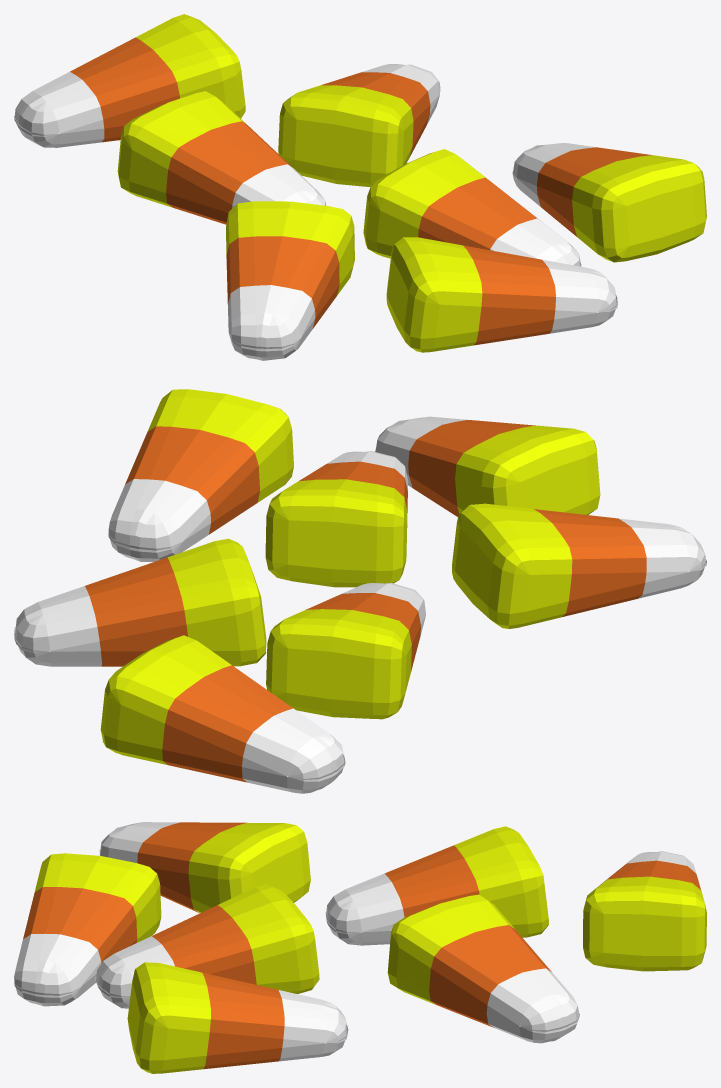
Rendered from 20831b55-eed7-40b2-8fda-67ca01d1e3cf.glb.
3 renders of one model, top to bottom at view 1: azimuth 30°, elevation 25°; view 2: azimuth 150°, elevation 25°; view 3: azimuth 270°, elevation 25°, orthographic. The views are drawn at different scales.
Parts seen in each view (by area): view 1: Box012, Box011, Box007, Box010, Box009, Box008, Box013; view 2: Box007, Box011, Box010, Box008, Box012, Box009, Box013; view 3: Box010, Box008, Box012, Box013, Box009, Box011, Box007.
Part boxes in pixels (x1=…): Box012: x1=386, y1=237, x2=617, y2=352; Box011: x1=226, y1=201, x2=354, y2=360; Box007: x1=14, y1=14, x2=245, y2=147; Box010: x1=512, y1=143, x2=706, y2=262; Box009: x1=117, y1=91, x2=326, y2=224; Box008: x1=278, y1=64, x2=440, y2=187; Box013: x1=363, y1=149, x2=581, y2=266; Box007: x1=100, y1=635, x2=345, y2=793; Box011: x1=452, y1=503, x2=706, y2=628; Box010: x1=108, y1=389, x2=293, y2=561; Box008: x1=14, y1=538, x2=266, y2=666; Box012: x1=375, y1=416, x2=600, y2=516; Box009: x1=266, y1=583, x2=425, y2=719; Box013: x1=265, y1=451, x2=408, y2=587; Box010: x1=127, y1=962, x2=348, y2=1073; Box008: x1=387, y1=894, x2=579, y2=1043; Box012: x1=14, y1=853, x2=161, y2=1006; Box013: x1=95, y1=884, x2=319, y2=1008; Box009: x1=325, y1=826, x2=548, y2=945; Box011: x1=99, y1=822, x2=310, y2=913; Box007: x1=583, y1=851, x2=706, y2=971.
Bounding box in the file's own units: 574908 × 93464 × 744359.
